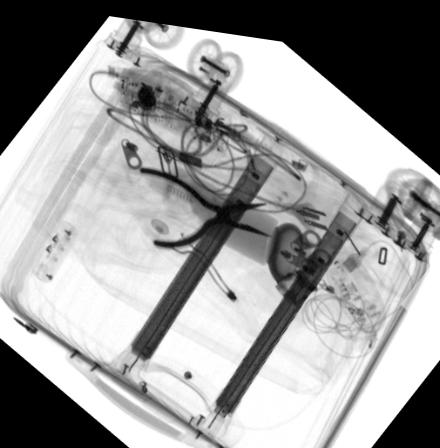Pliers: (136, 164, 273, 243)
